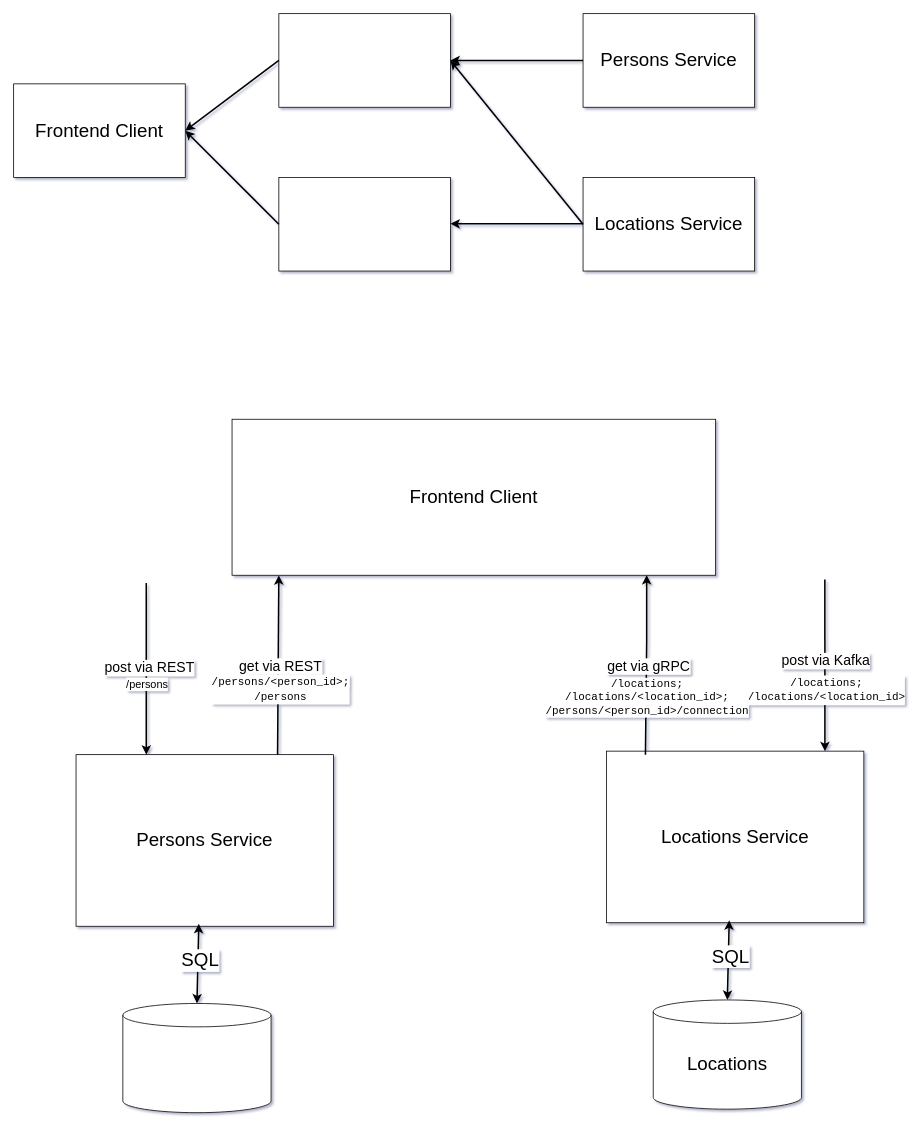
Image size: 924x1131. Some labels were removed from this diagram. Here are the shapes that lost their labels. From the top down, the box of each, then its label:
(278, 13, 450, 107): Persons Route
(278, 177, 450, 271): Locations Route
(122, 1003, 271, 1113): Persons
